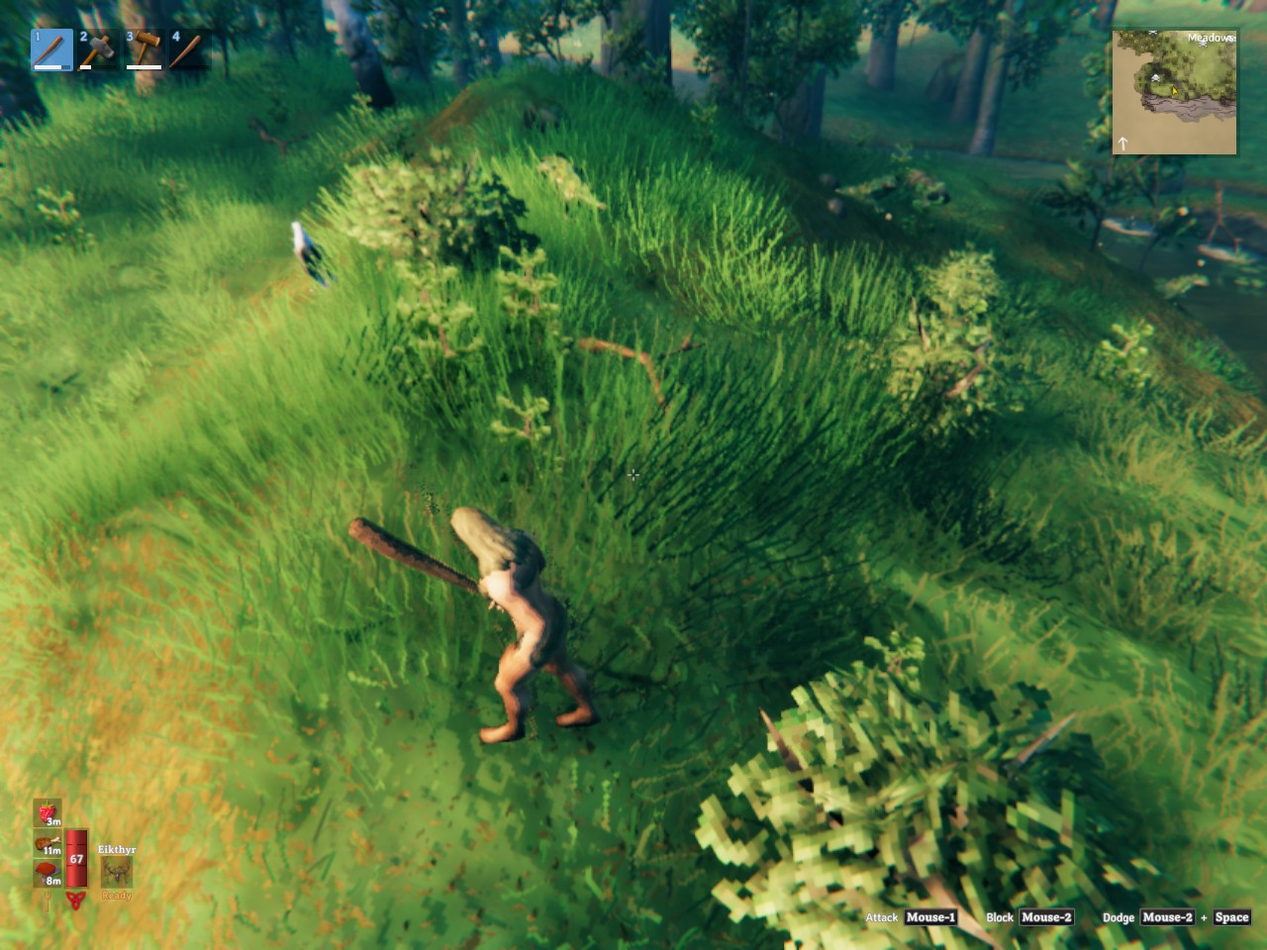Branch: (574, 338, 664, 404), (658, 333, 706, 359)
Food Indicator: (36, 797, 63, 891)
Health Bar: (63, 820, 90, 891)
Hotbar: (25, 21, 398, 78)
Neck: (536, 154, 606, 213), (838, 176, 897, 209), (1155, 273, 1209, 299)
Stone: (827, 197, 844, 214)
